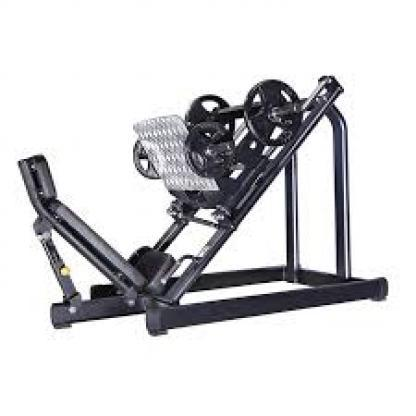leg press: (12, 44, 396, 347)
